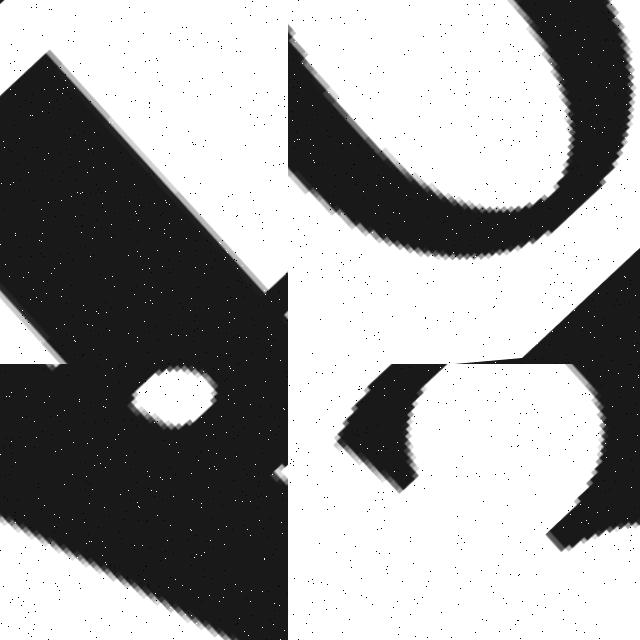0: (288, 0, 640, 364)
3: (306, 364, 640, 640)
F: (0, 0, 288, 364)
K: (0, 364, 288, 640)
